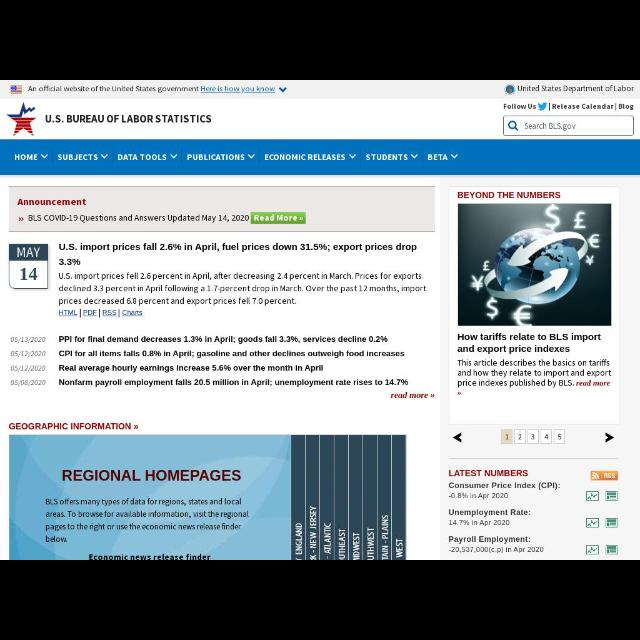icon: (117, 154, 177, 162), (586, 518, 598, 528), (606, 518, 618, 528), (606, 492, 618, 501), (587, 492, 599, 500), (587, 546, 599, 554), (453, 433, 462, 442), (606, 432, 614, 442), (508, 122, 518, 130), (41, 154, 48, 160), (278, 88, 288, 92), (170, 155, 178, 159), (349, 154, 357, 158), (450, 154, 458, 158), (248, 155, 255, 159), (430, 394, 436, 398), (18, 217, 24, 221), (101, 155, 107, 159), (412, 154, 418, 158), (458, 392, 460, 396), (300, 218, 302, 220)
image: (9, 435, 407, 559), (458, 204, 612, 326), (458, 334, 612, 388), (7, 104, 212, 136), (10, 244, 48, 290), (505, 84, 635, 94), (592, 471, 618, 481), (12, 85, 22, 93), (538, 104, 546, 110)
input: (504, 116, 634, 136)
link: (200, 87, 276, 93), (122, 310, 144, 316), (82, 310, 98, 318), (59, 310, 77, 316), (606, 546, 618, 554), (103, 310, 117, 316)
multitab: (1, 140, 639, 176)
pageindicator: (502, 430, 566, 444)
spinner: (264, 154, 356, 160), (187, 154, 255, 162), (58, 154, 108, 162), (364, 154, 418, 160), (14, 154, 48, 160), (427, 154, 458, 160)
text: (58, 243, 430, 307), (11, 336, 409, 386), (448, 483, 560, 499), (30, 214, 248, 222), (448, 537, 544, 553), (449, 509, 531, 525), (29, 86, 199, 92), (458, 192, 560, 198), (449, 469, 528, 476), (18, 198, 86, 206), (264, 154, 346, 160), (188, 154, 246, 162), (117, 154, 167, 162), (552, 104, 614, 110), (526, 124, 576, 130), (255, 215, 297, 221), (366, 154, 408, 160), (58, 154, 98, 160), (392, 393, 428, 399), (504, 104, 536, 110), (15, 154, 38, 160), (427, 154, 447, 160), (620, 104, 634, 110)
textbutton: (251, 212, 305, 224)
